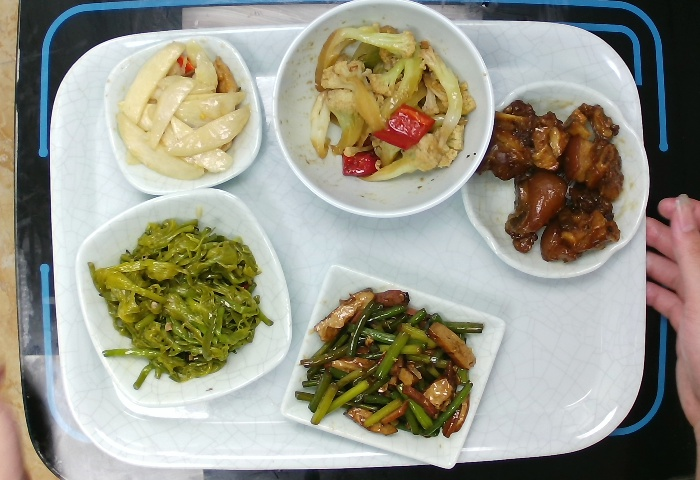JYsf-Ao_Yuan_Wan: (465, 73, 656, 282)
JYsf-Fan_Wan: (263, 1, 504, 224)
JYsf-Si_Fang_Die: (99, 28, 265, 196)
WCQzf-Da_Si_Fang_Die: (72, 186, 299, 411)
WCQzf-Ru_Ci_Si_Fang_Die: (276, 261, 509, 472)
